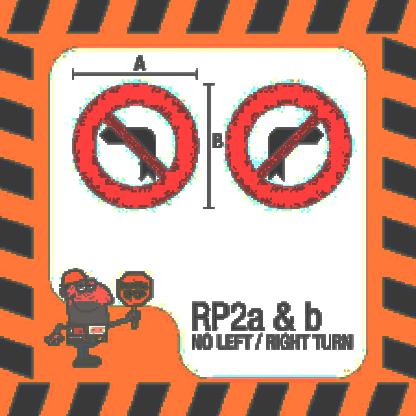No left turn: (68, 83, 200, 211)
